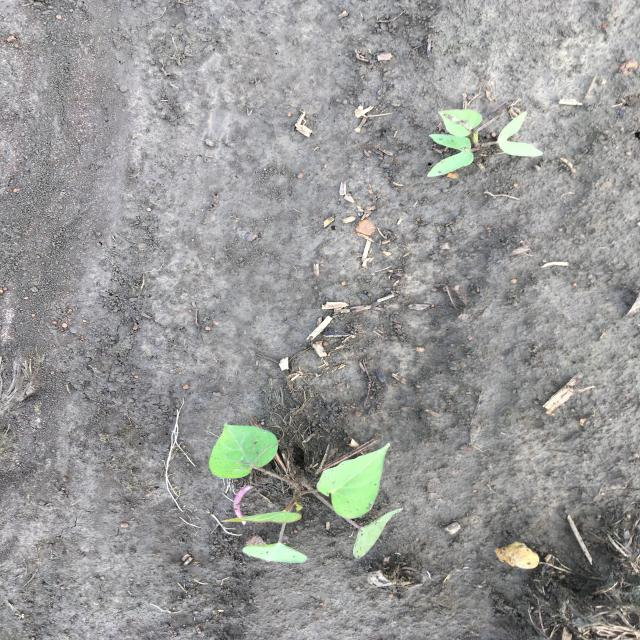MorningGlory: (205, 420, 406, 566), (426, 107, 548, 179)
